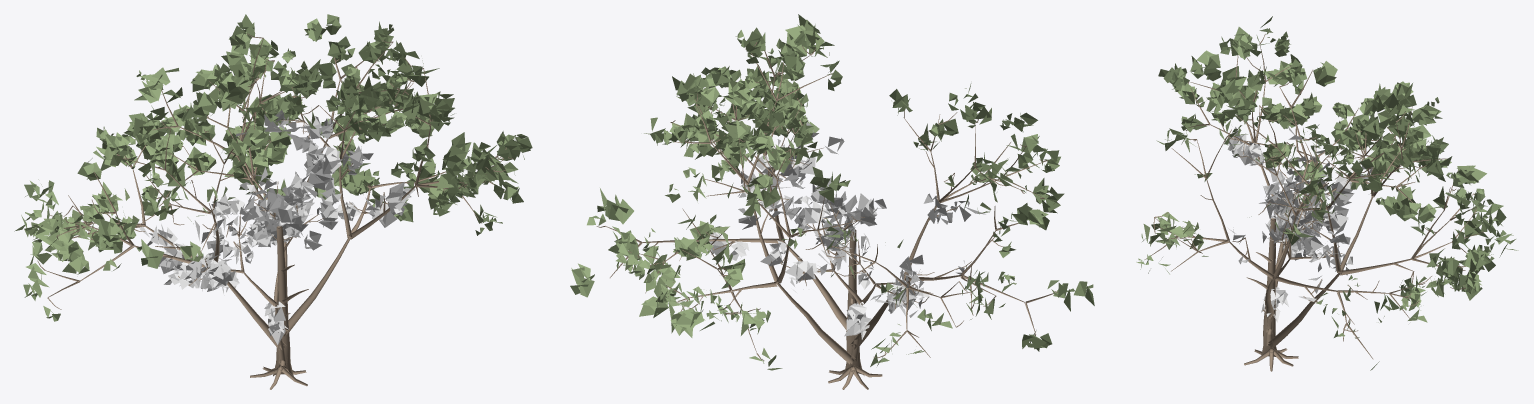
File: tree-c-close.glb
3 renders of one model, left to right at view 1: azimuth 30°, elevation 25°; view 2: azimuth 150°, elevation 25°; view 3: azimuth 270°, elevation 25°, orthographic. The views are drawn at different scales.
Parts seen in each view (by area): view 1: leaf, leafDeep, wood; view 2: leaf, wood, leafDeep; view 3: leaf, wood, leafDeep.
Boxes of the visible parts, x1=… form: leaf: x1=14, y1=14, x2=532, y2=321; leafDeep: x1=139, y1=110, x2=415, y2=344; wood: x1=37, y1=33, x2=513, y2=389; leaf: x1=570, y1=14, x2=1094, y2=370; wood: x1=596, y1=42, x2=1057, y2=389; leafDeep: x1=701, y1=122, x2=985, y2=339; leaf: x1=1136, y1=16, x2=1518, y2=370; wood: x1=1144, y1=34, x2=1483, y2=371; leafDeep: x1=1227, y1=126, x2=1373, y2=322.
Bounding box in the file's own units: 21.02 × 13.65 × 15.68.
